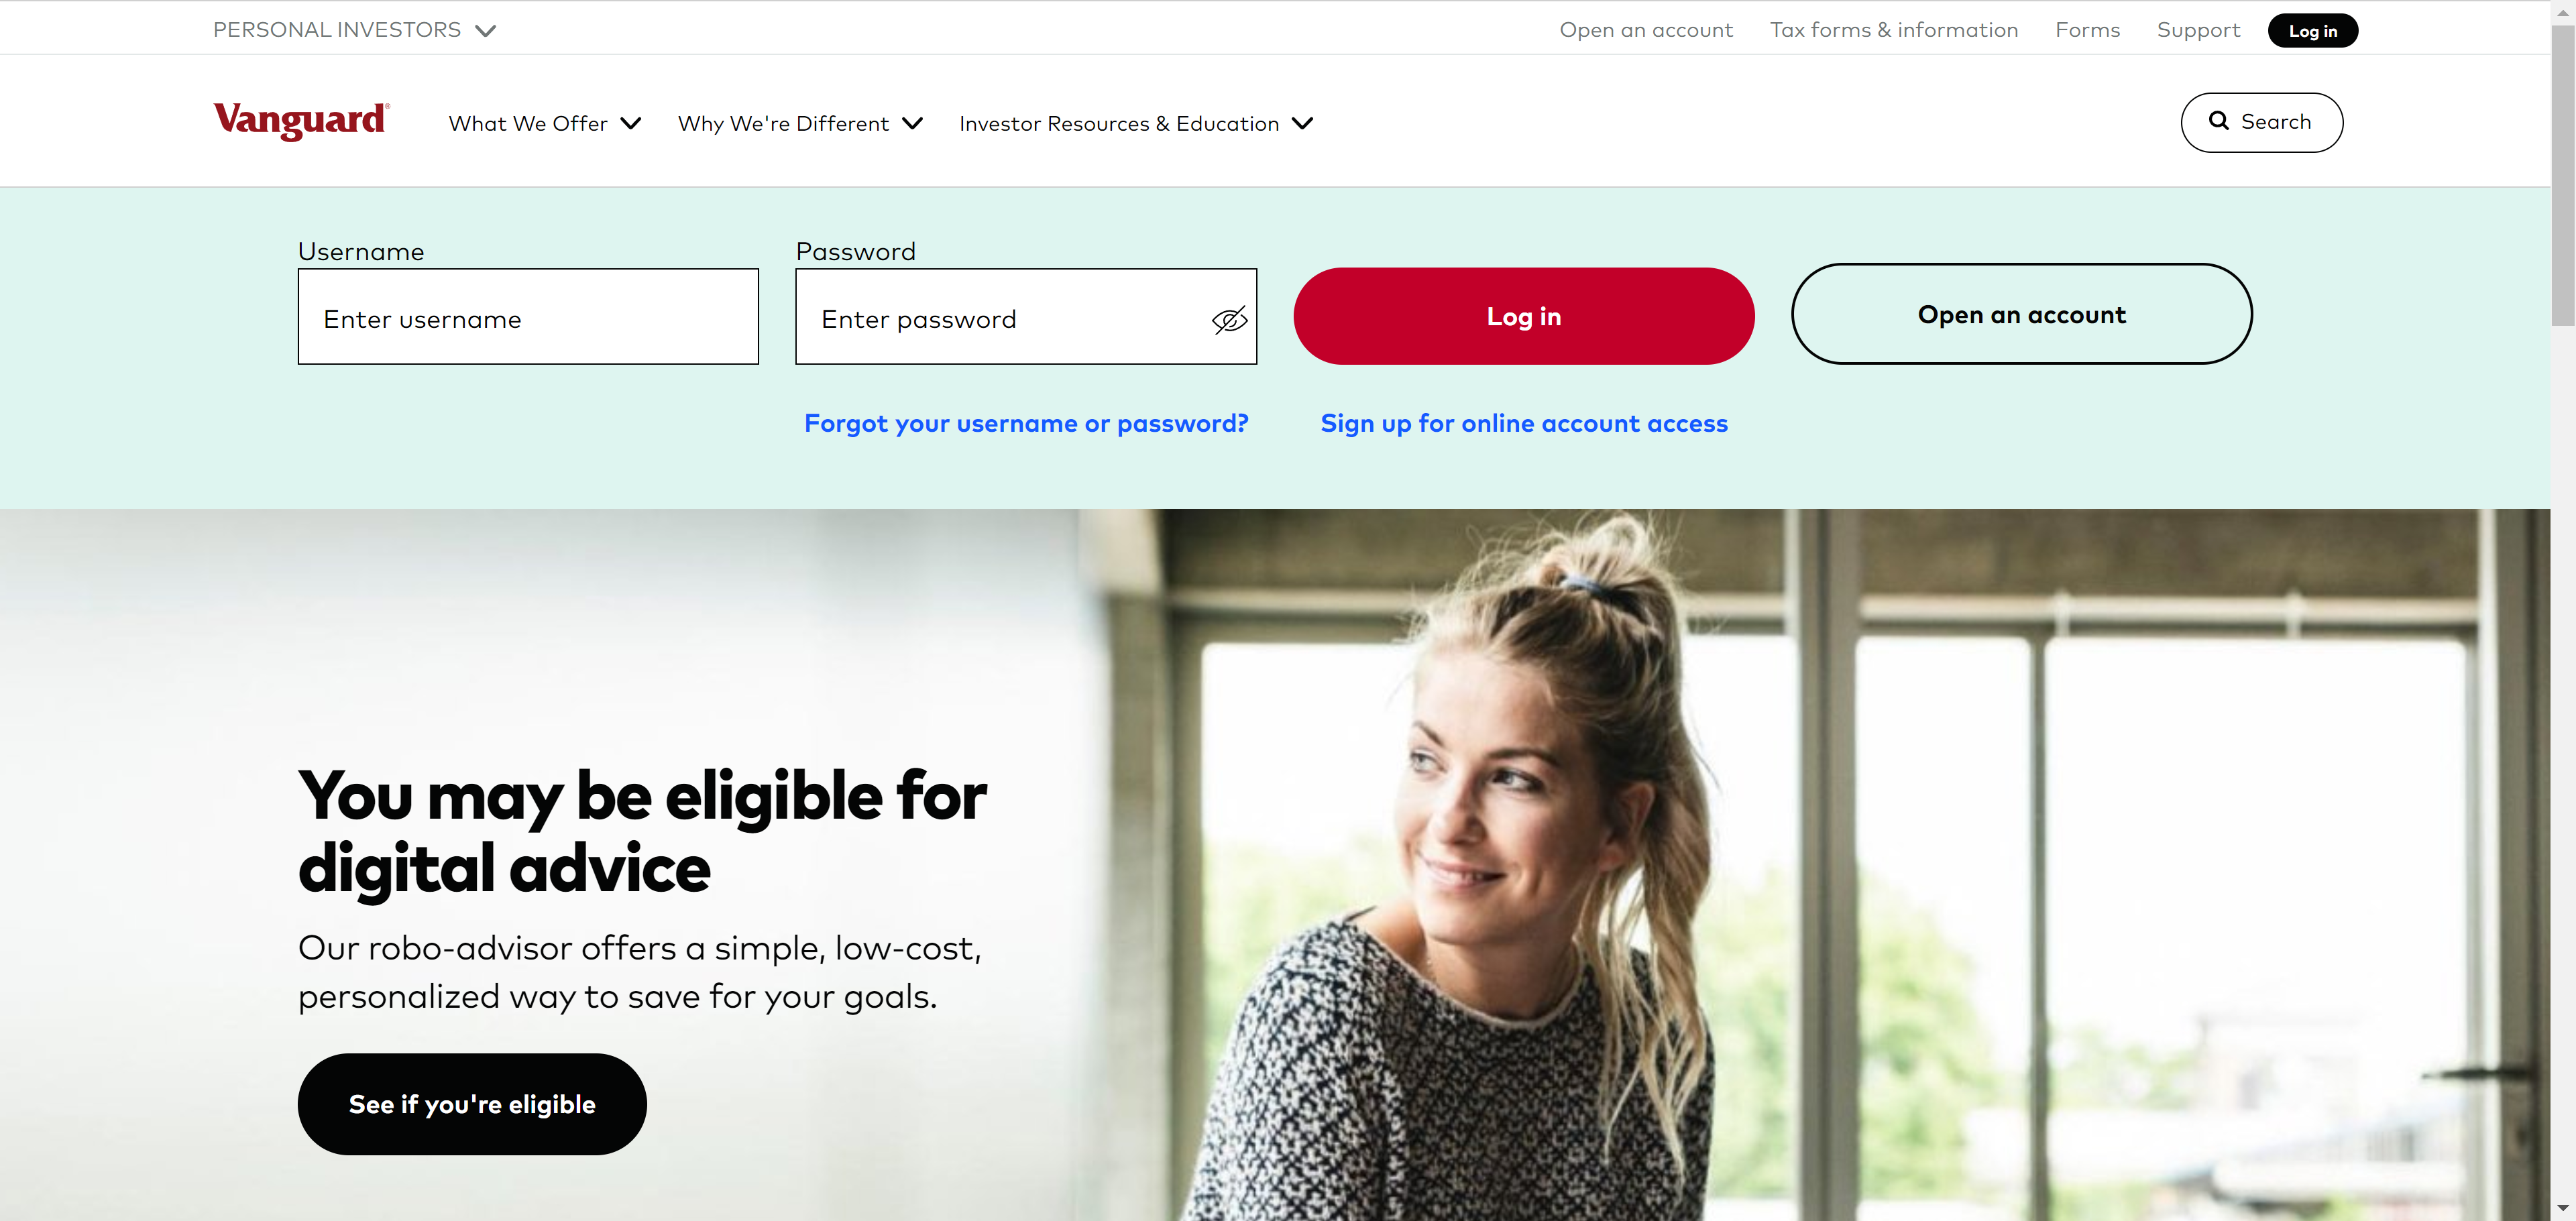login_button: (1293, 268, 1755, 365)
login_form: (289, 225, 1769, 388)
